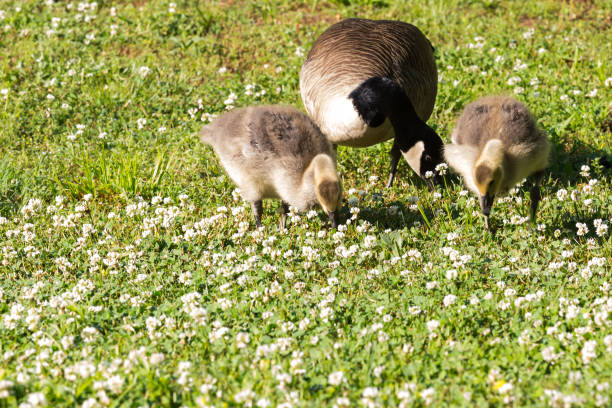goose: (296, 15, 453, 200)
